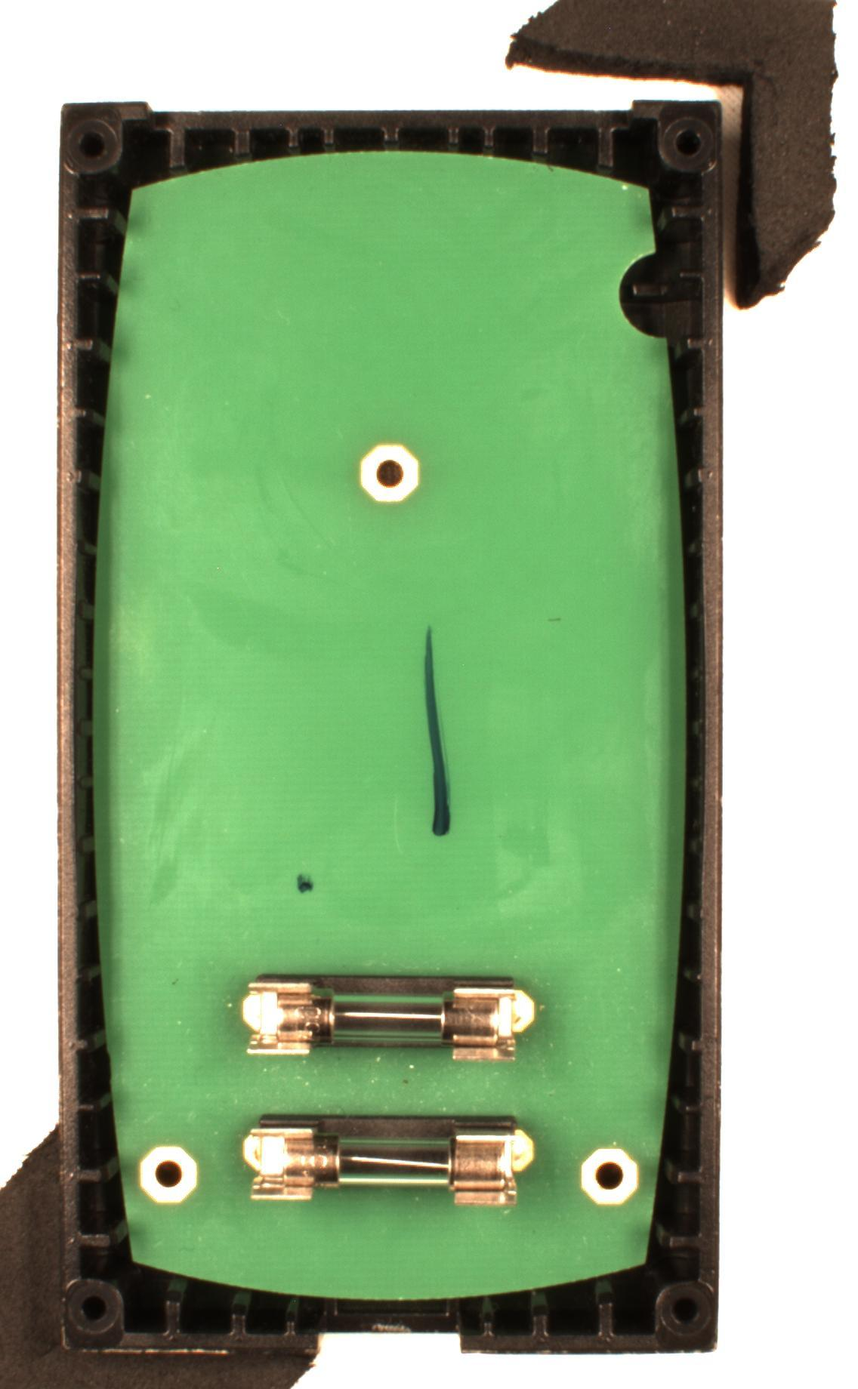Linijsko Ostecene: (421, 625, 452, 838)
Tockasto Ostecenje: (293, 871, 319, 899)
